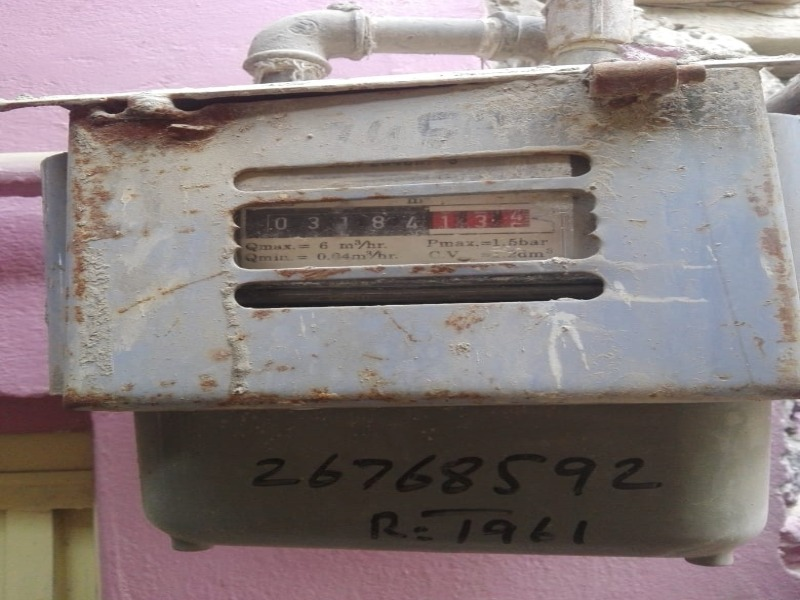ssgc: (246, 206, 547, 237)
